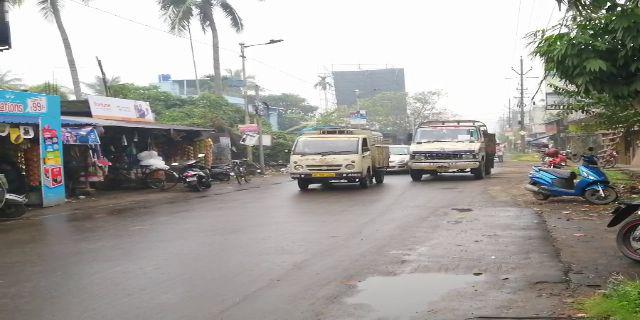Minitruck: (291, 129, 389, 195)
Motorbike: (525, 164, 618, 203)
Truck: (408, 123, 500, 178)
